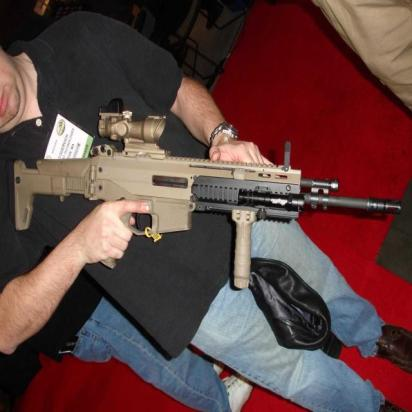Gun: (12, 104, 401, 290)
